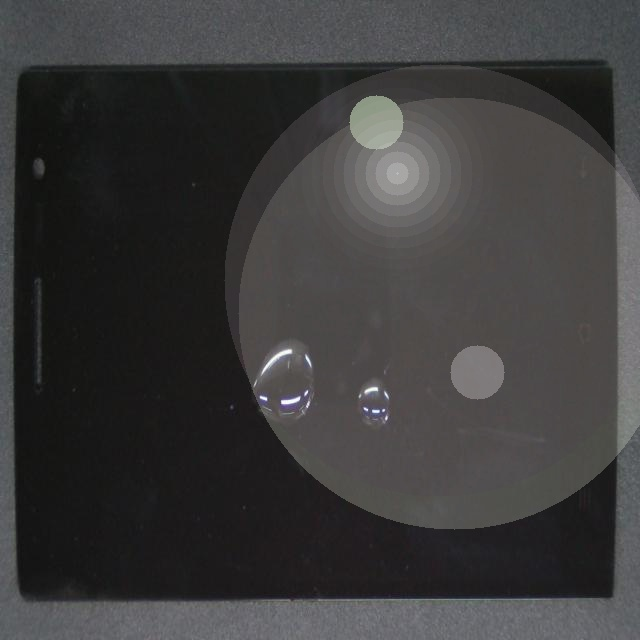oil: (206, 197, 586, 578), (169, 207, 462, 539)
